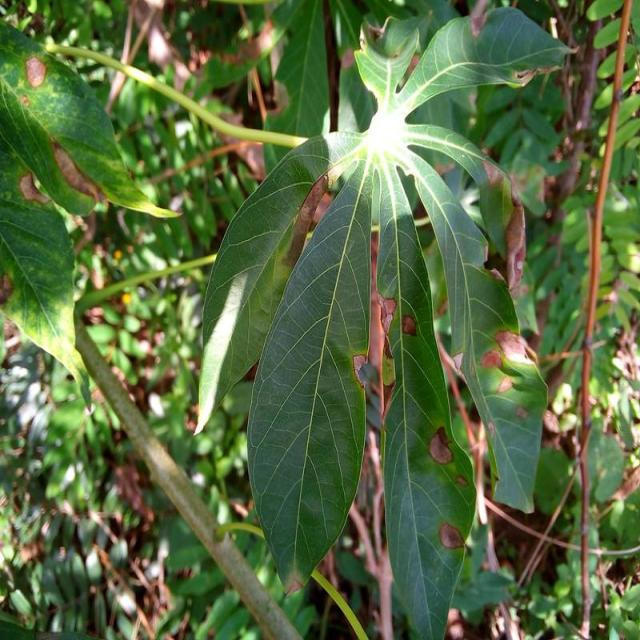cassava leaf: (195, 4, 573, 636), (0, 16, 182, 405), (245, 156, 373, 596), (376, 156, 477, 638)
